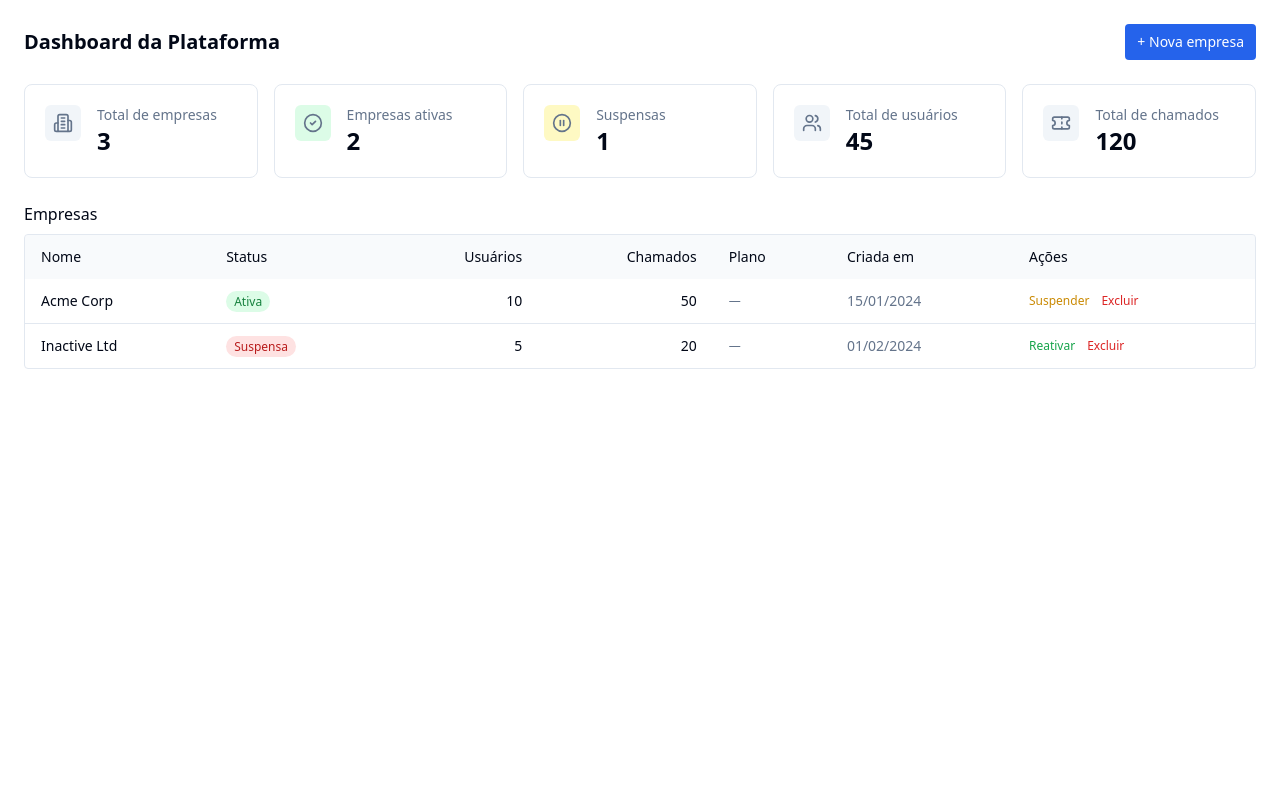
it: GlobalDashboard › abre confirmação de exclusão ao clicar em Excluir
What coordinates should you click on to do the following:
click the button "Excluir" in the row of "Acme Corp"
I would click on:
 (1120, 301)
Its box is [1101, 293, 1138, 309].
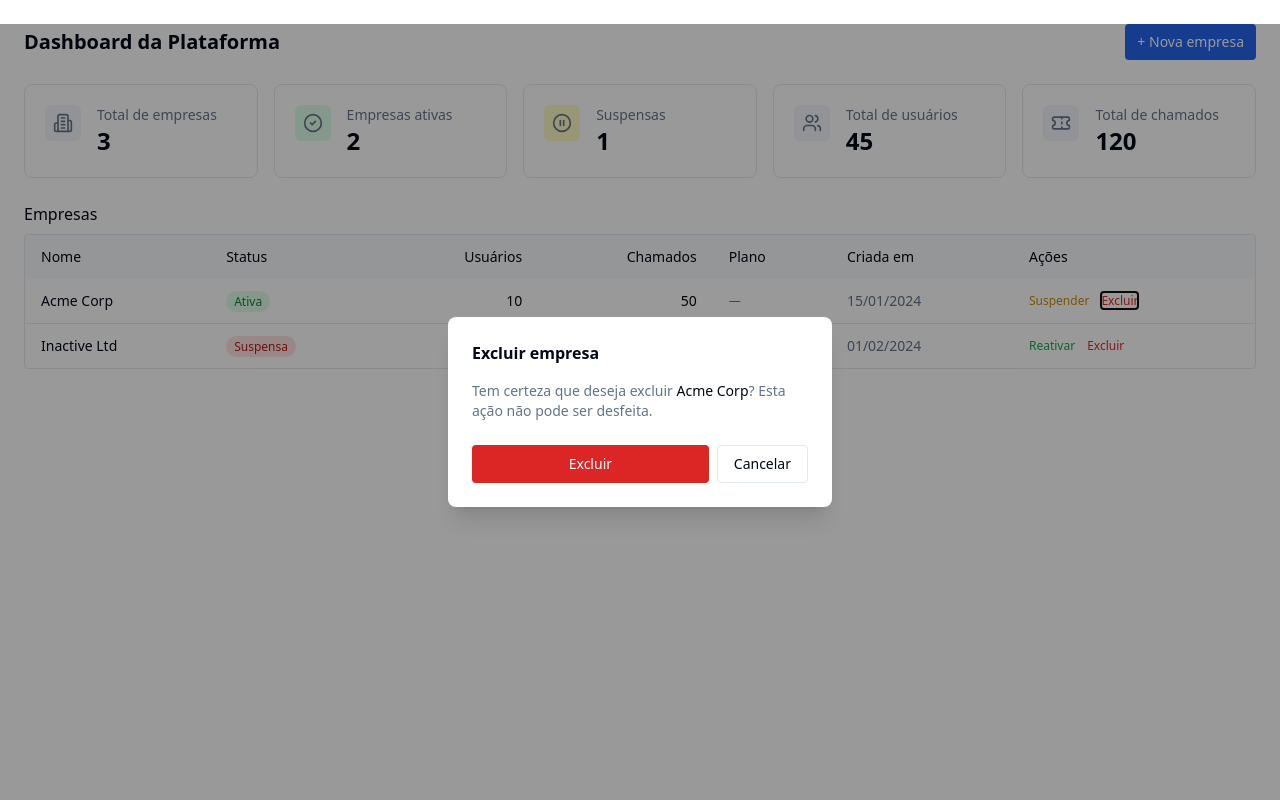
Check: the text "Tem certeza que deseja excluir" is shown, box [472, 381, 673, 400]
